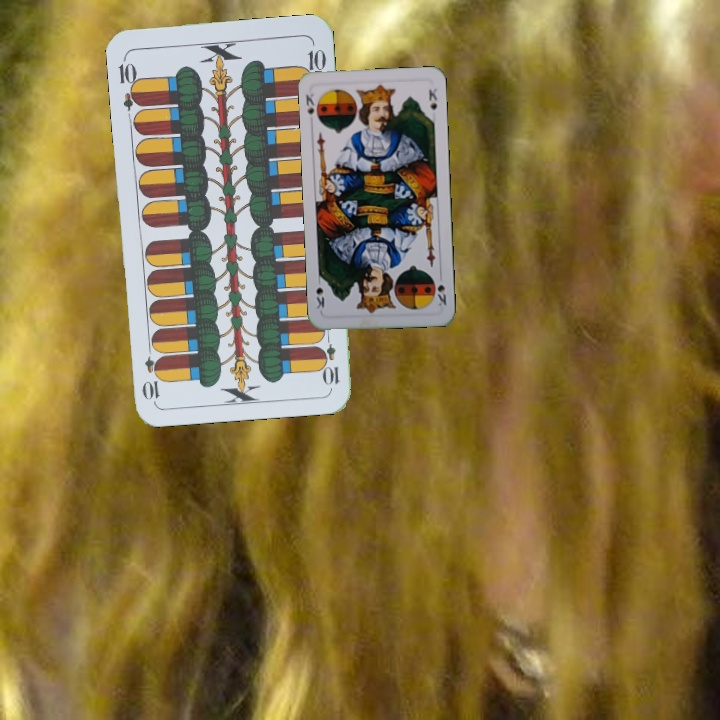E10: (115, 53, 144, 112), (320, 329, 342, 388)
SK: (432, 269, 449, 309), (301, 90, 318, 118)
